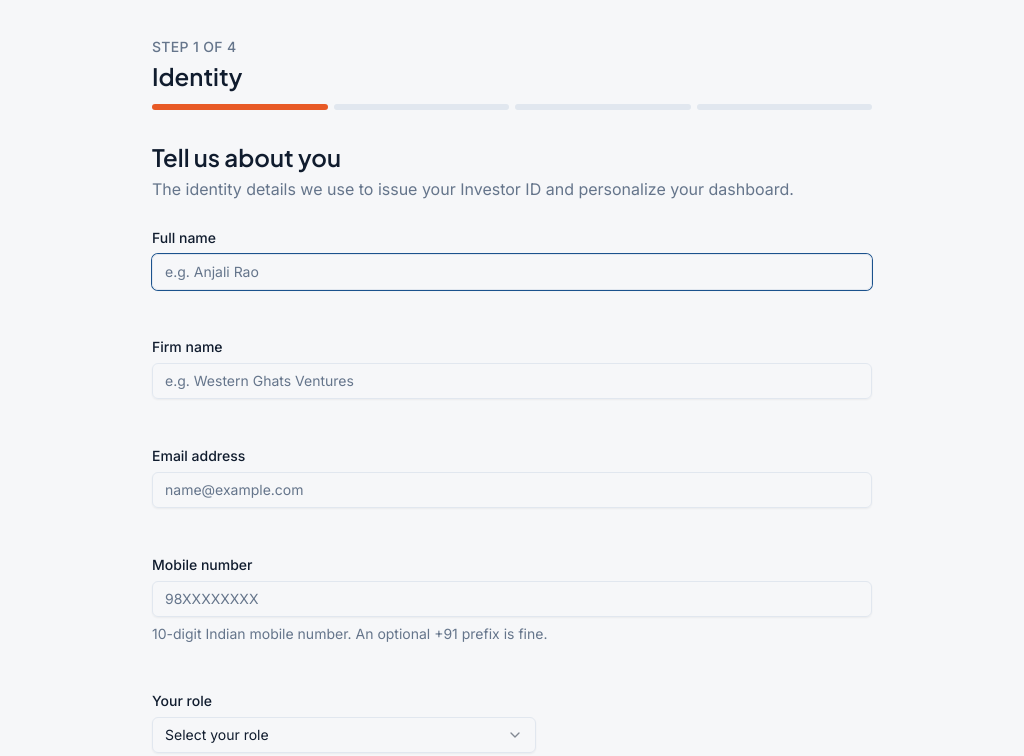
InvestorOnboardingWizard (integration) › advances to step 2 once step 1 is valid
This screenshot has width=1024, height=756.
Type "Anjali Rao" into the field labelled "Full name".
click(512, 272); type("Anjali Rao")  # box x1=152 y1=254 x2=872 y2=290
Type "Western Ghats Ventures" into the field labelled "Firm name".
click(512, 381); type("Western Ghats Ventures")  # box x1=152 y1=363 x2=872 y2=399
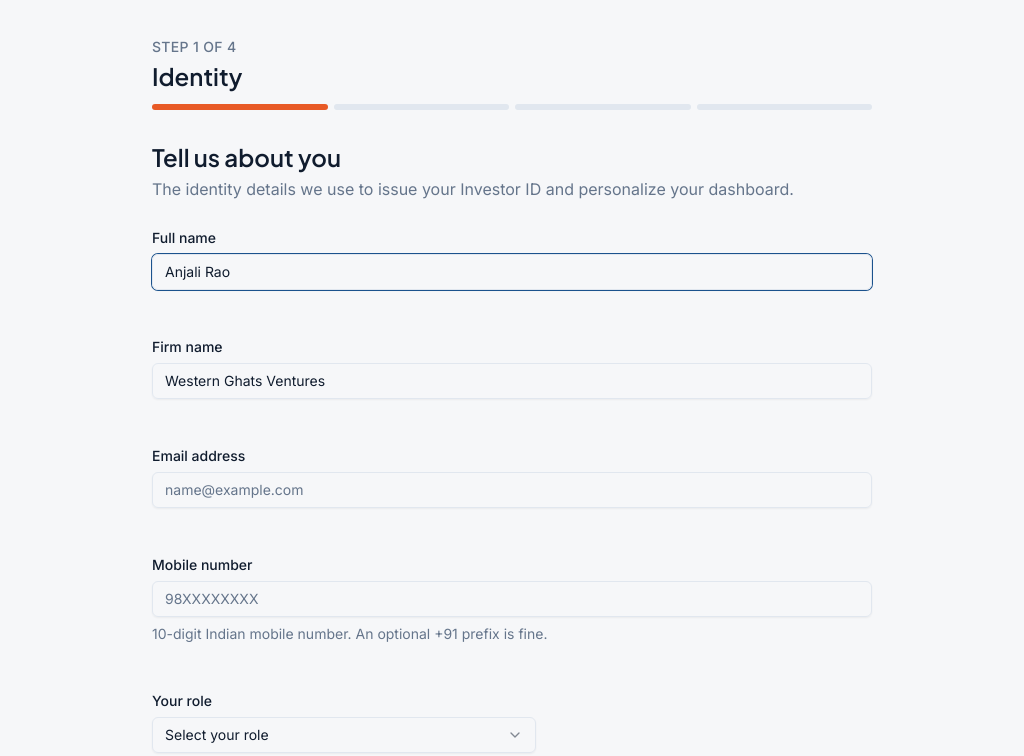
Type "anjali@example.com" into the field labelled "Email address".
click(512, 490); type("anjali@example.com")  # box x1=152 y1=472 x2=872 y2=508
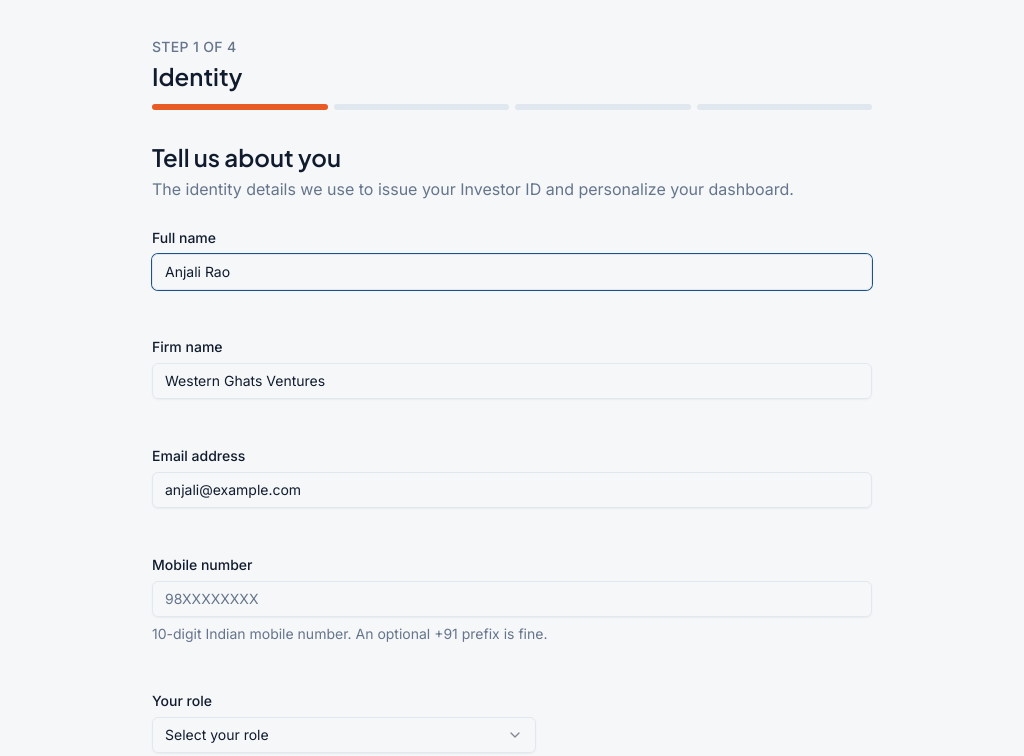
Type "9876543210" into the field labelled "Mobile number".
click(512, 599); type("9876543210")  # box x1=152 y1=581 x2=872 y2=617
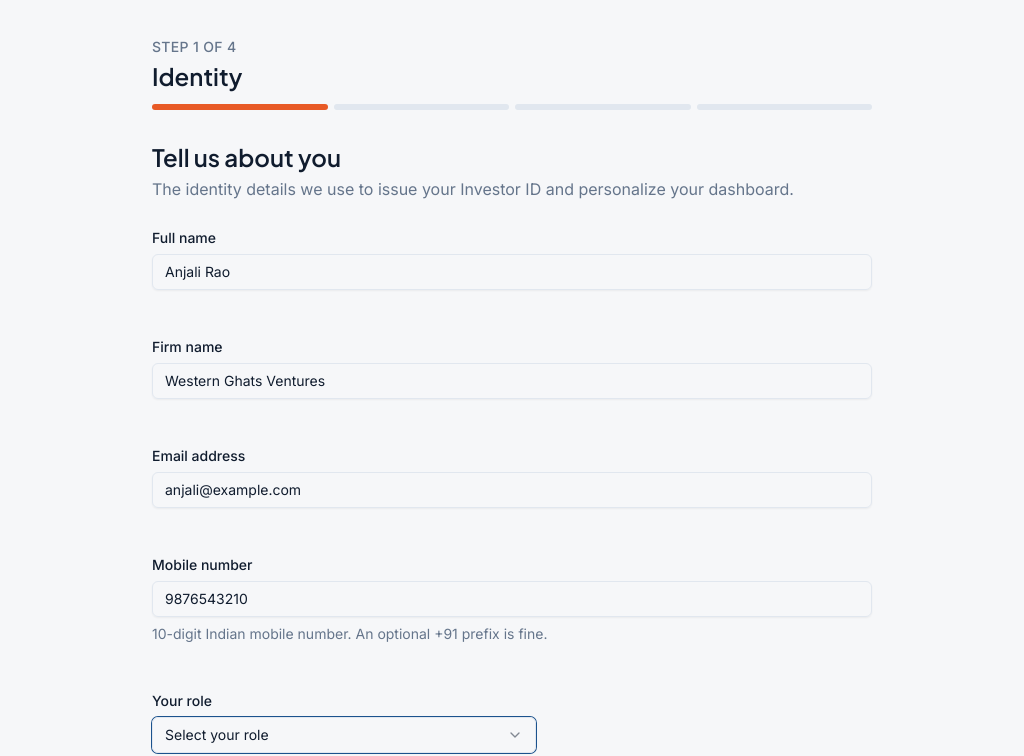
Press ArrowDown in the dropdown labelled "Select your role", box x1=152 y1=717 x2=536 y2=753
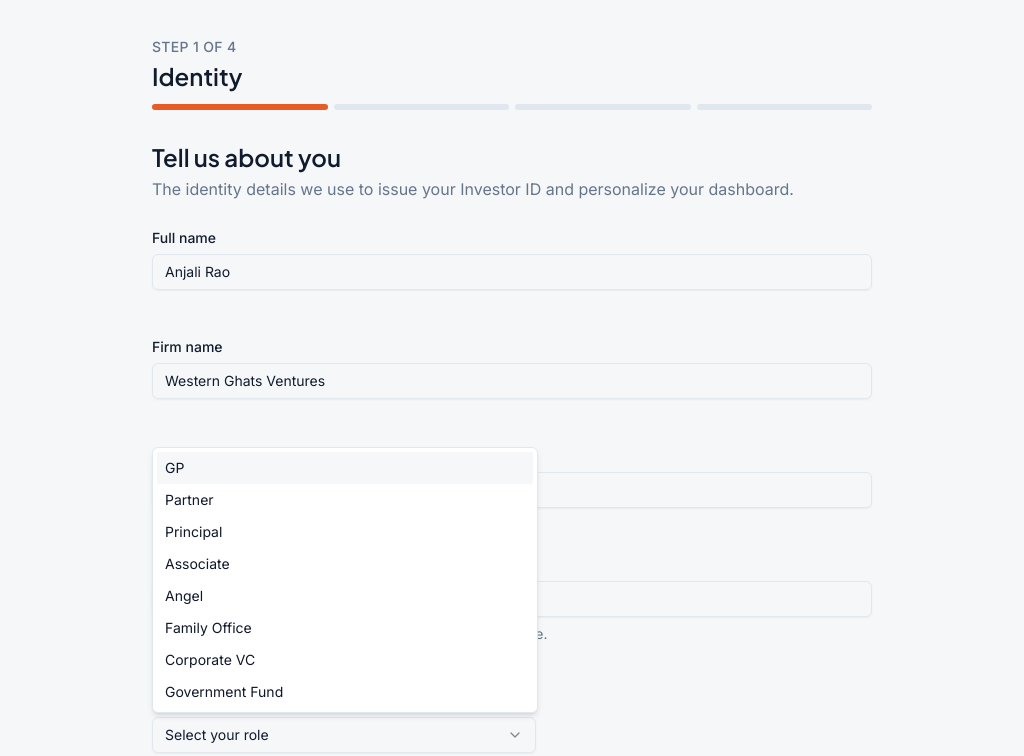
Click the option "GP".
click(175, 468)  # box x1=157 y1=452 x2=533 y2=484
(page scrolled)
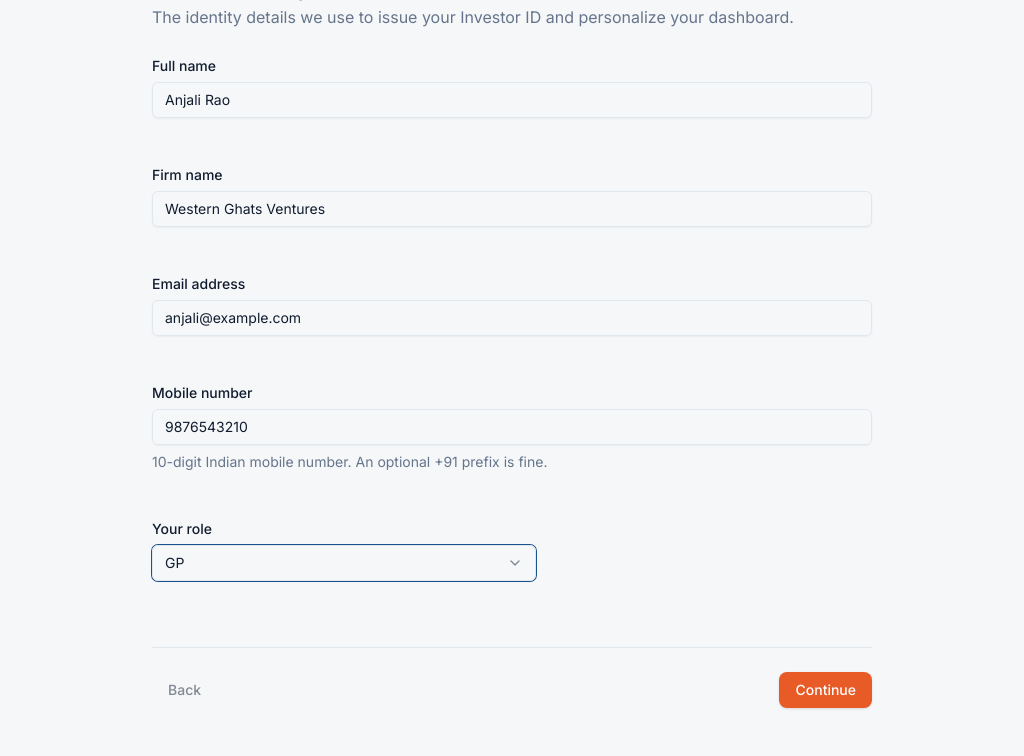
expect the dropdown named "Your role" reads "GP": met, box x1=152 y1=545 x2=536 y2=581
Click the button "Continue".
click(826, 690)  # box x1=780 y1=672 x2=872 y2=708
(page scrolled)
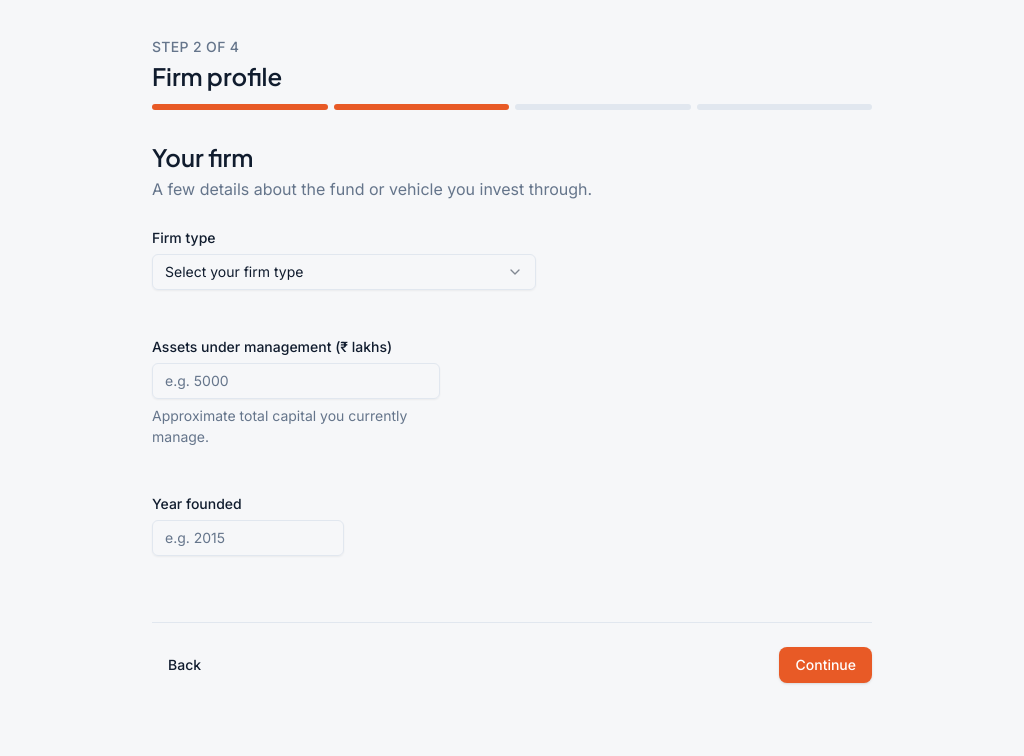
expect the heading "Your firm" is shown: met, box x1=152 y1=142 x2=253 y2=172
